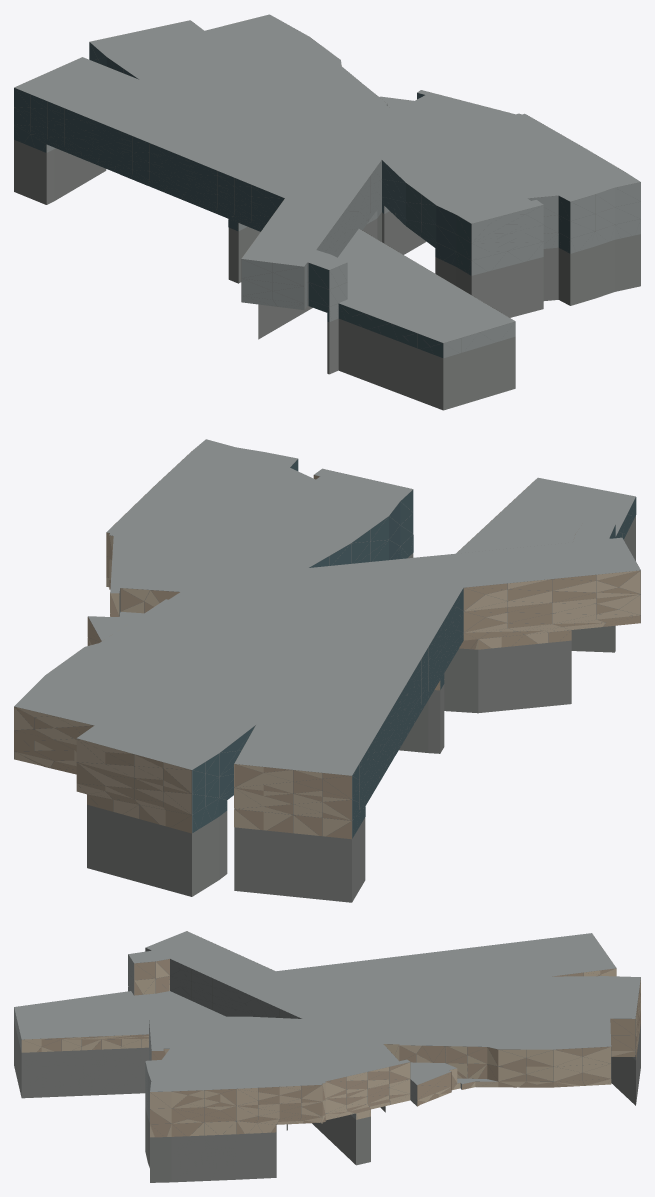
The model's file is federation-east.glb.
3 renders of one model, top to bottom at view 1: azimuth 30°, elevation 25°; view 2: azimuth 150°, elevation 25°; view 3: azimuth 270°, elevation 25°, orthographic. The views are drawn at different scales.
Parts seen in each view (by area): view 1: structure_816359_clean_envelope, federation_east_panels_3, federation_east_panels_2; view 2: structure_816359_clean_envelope, federation_east_panels_1, federation_east_panels_0, federation_east_panels_3; view 3: structure_816359_clean_envelope, federation_east_panels_0, federation_east_panels_1, federation_east_panels_2.
Part boxes in pixels (x1,y1,x2,y2): structure_816359_clean_envelope: (14,14,640,410); federation_east_panels_3: (14,42,570,357); federation_east_panels_2: (46,104,640,357); structure_816359_clean_envelope: (14,439,640,902); federation_east_panels_1: (14,451,640,839); federation_east_panels_0: (14,482,640,836); federation_east_panels_3: (119,459,636,838); structure_816359_clean_envelope: (14,931,640,1182); federation_east_panels_0: (21,931,640,1137); federation_east_panels_1: (37,950,640,1137); federation_east_panels_2: (14,948,635,1123).
Bounding box in the file's own units: 91.13 × 24 × 150.
